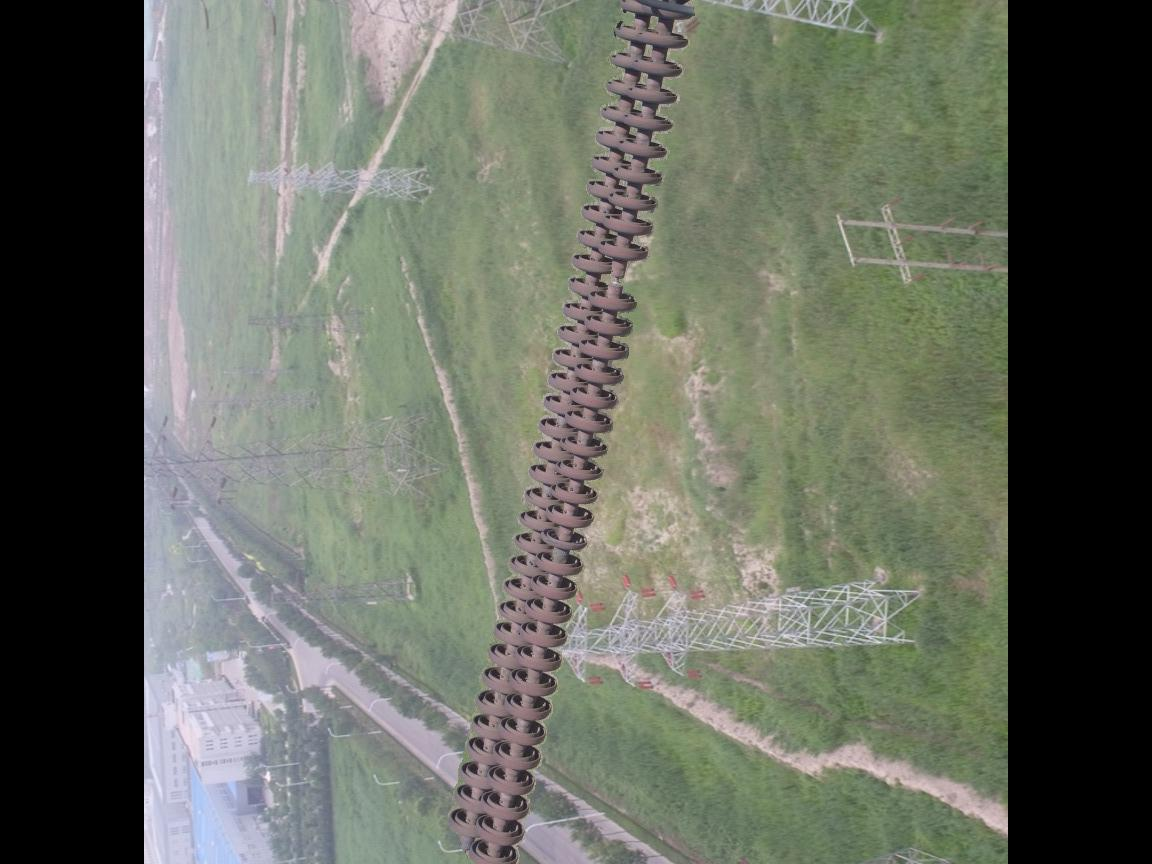insulator: (445, 1, 700, 864)
insulator_stringdrop: (583, 237, 654, 315)
